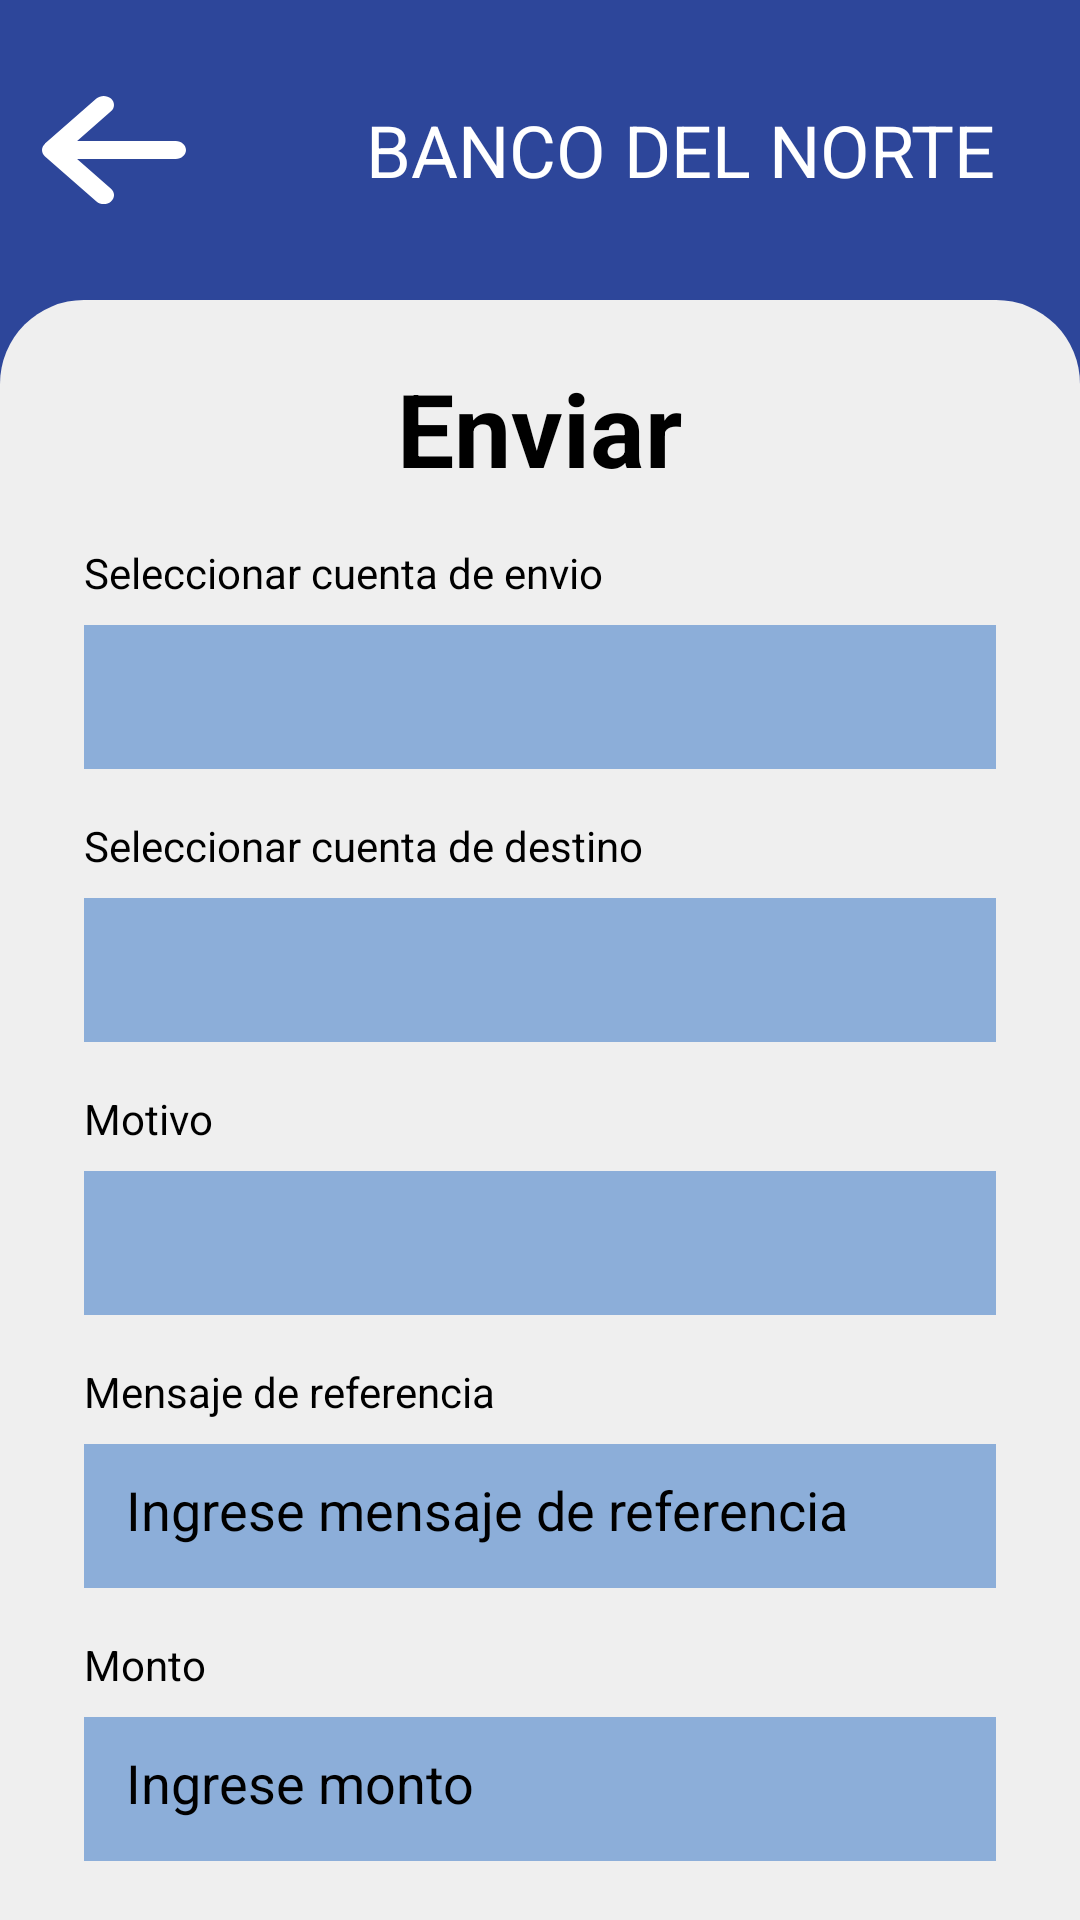

Where to tap for icons on this 1080px×1920px app screen, as (x,y):
Volver: (114,150)
